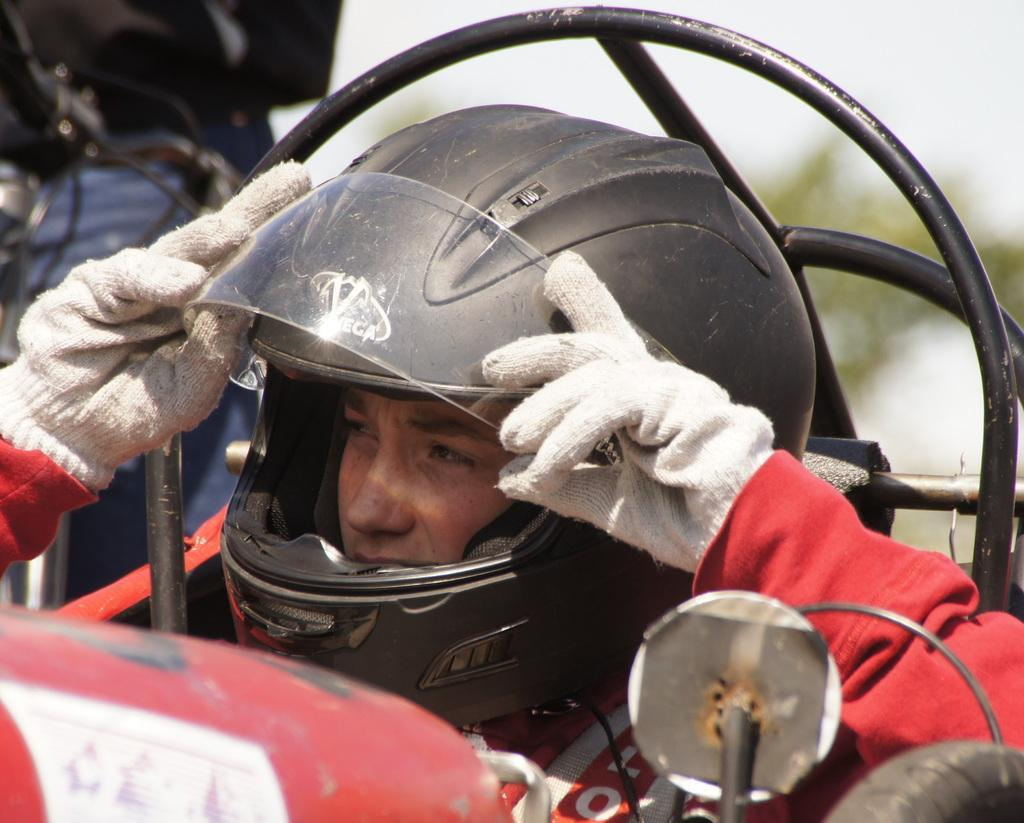helmet: (178, 98, 821, 733)
